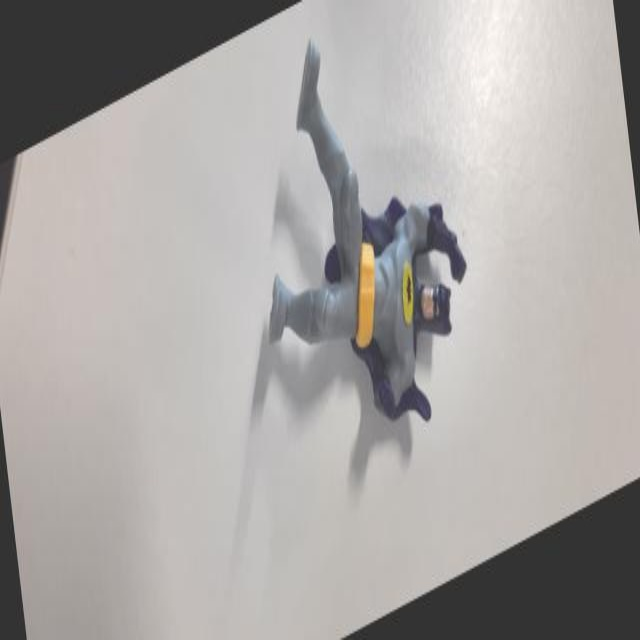Batman: (235, 0, 482, 499)
